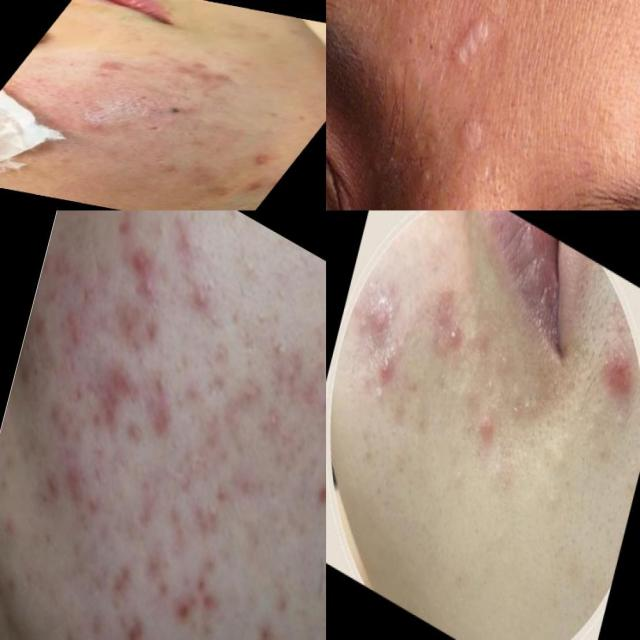acne_scars: (102, 242, 172, 324), (76, 357, 136, 448), (152, 52, 251, 88), (232, 147, 285, 170), (91, 54, 144, 76)
comedone: (240, 388, 290, 462), (133, 351, 180, 407), (190, 487, 232, 548), (501, 380, 543, 438), (180, 267, 214, 331), (368, 341, 403, 396), (570, 394, 604, 449), (389, 11, 422, 66), (256, 328, 296, 372), (414, 153, 442, 206), (416, 28, 442, 77), (361, 147, 394, 182), (540, 476, 563, 517), (605, 406, 627, 438), (363, 196, 390, 210)
flat_wart: (442, 0, 502, 91), (448, 103, 494, 162)
papule: (592, 338, 640, 406), (425, 270, 464, 334), (463, 398, 497, 448), (360, 289, 390, 342), (67, 113, 123, 137), (441, 311, 466, 357), (156, 98, 208, 120)
